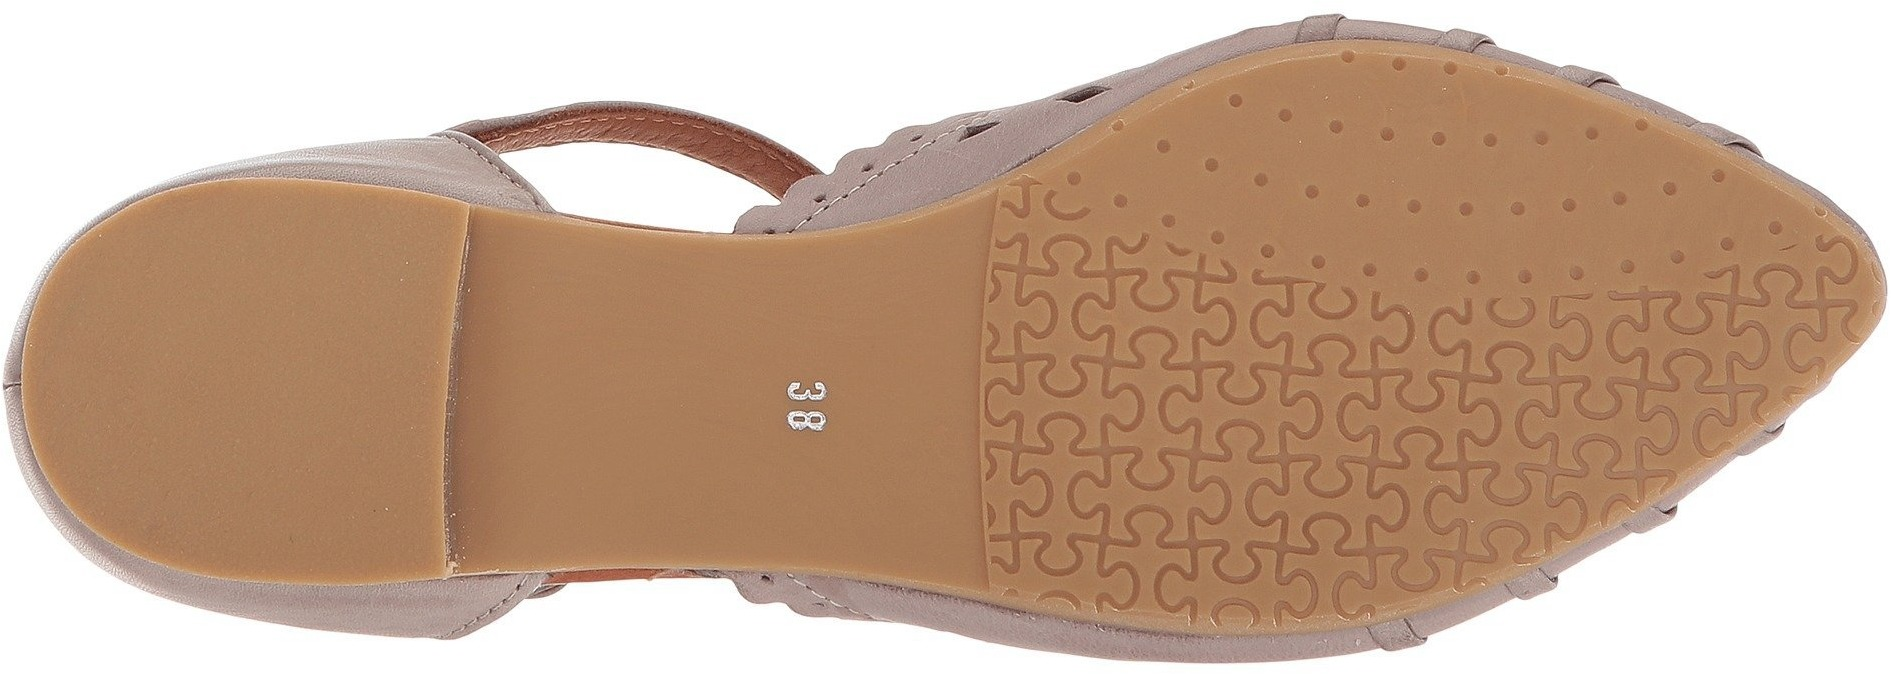other: (469, 205, 994, 591), (37, 203, 463, 578), (1021, 316, 1310, 594), (1405, 292, 1664, 496)
